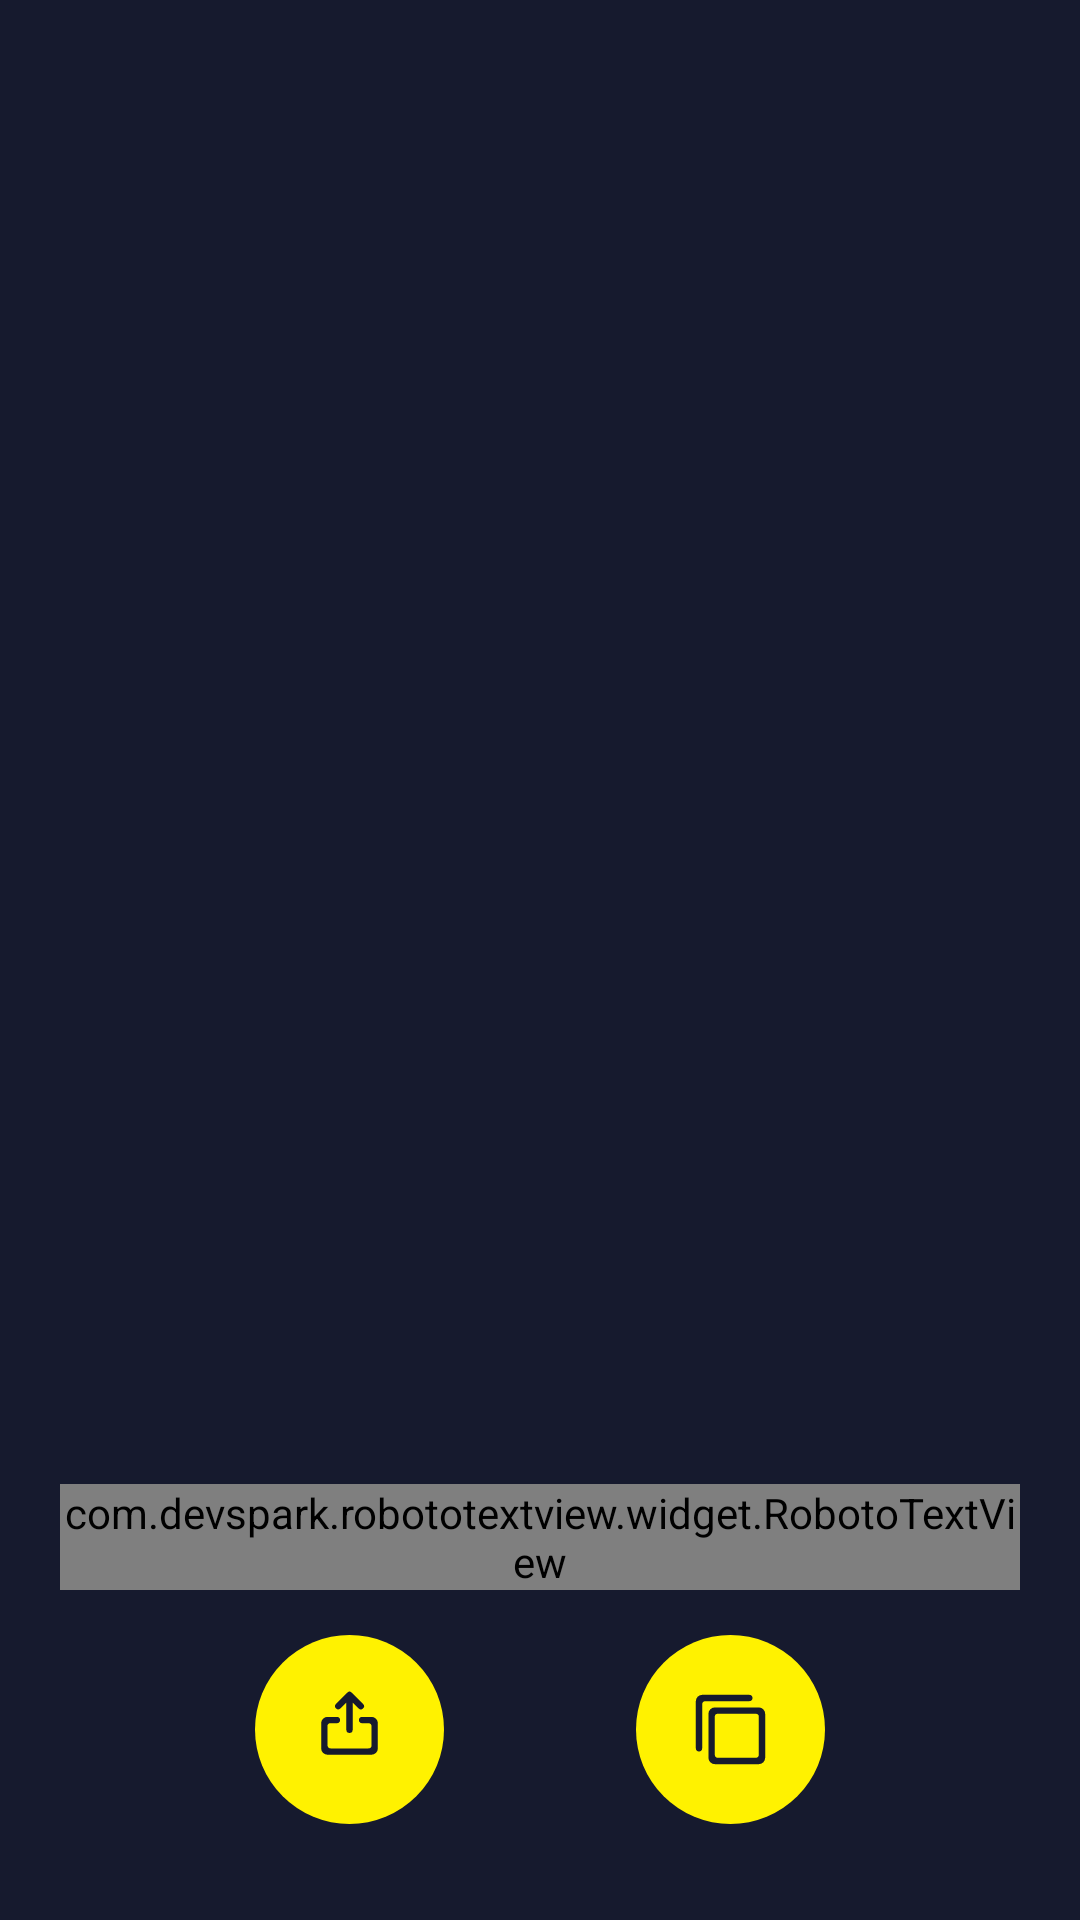

Icon bounding boxes for this 1080 × 1920 phone screenshot, format [left=x1, top=y1, right=x2, bottom=y2]:
share: [left=255, top=1635, right=444, bottom=1824]
